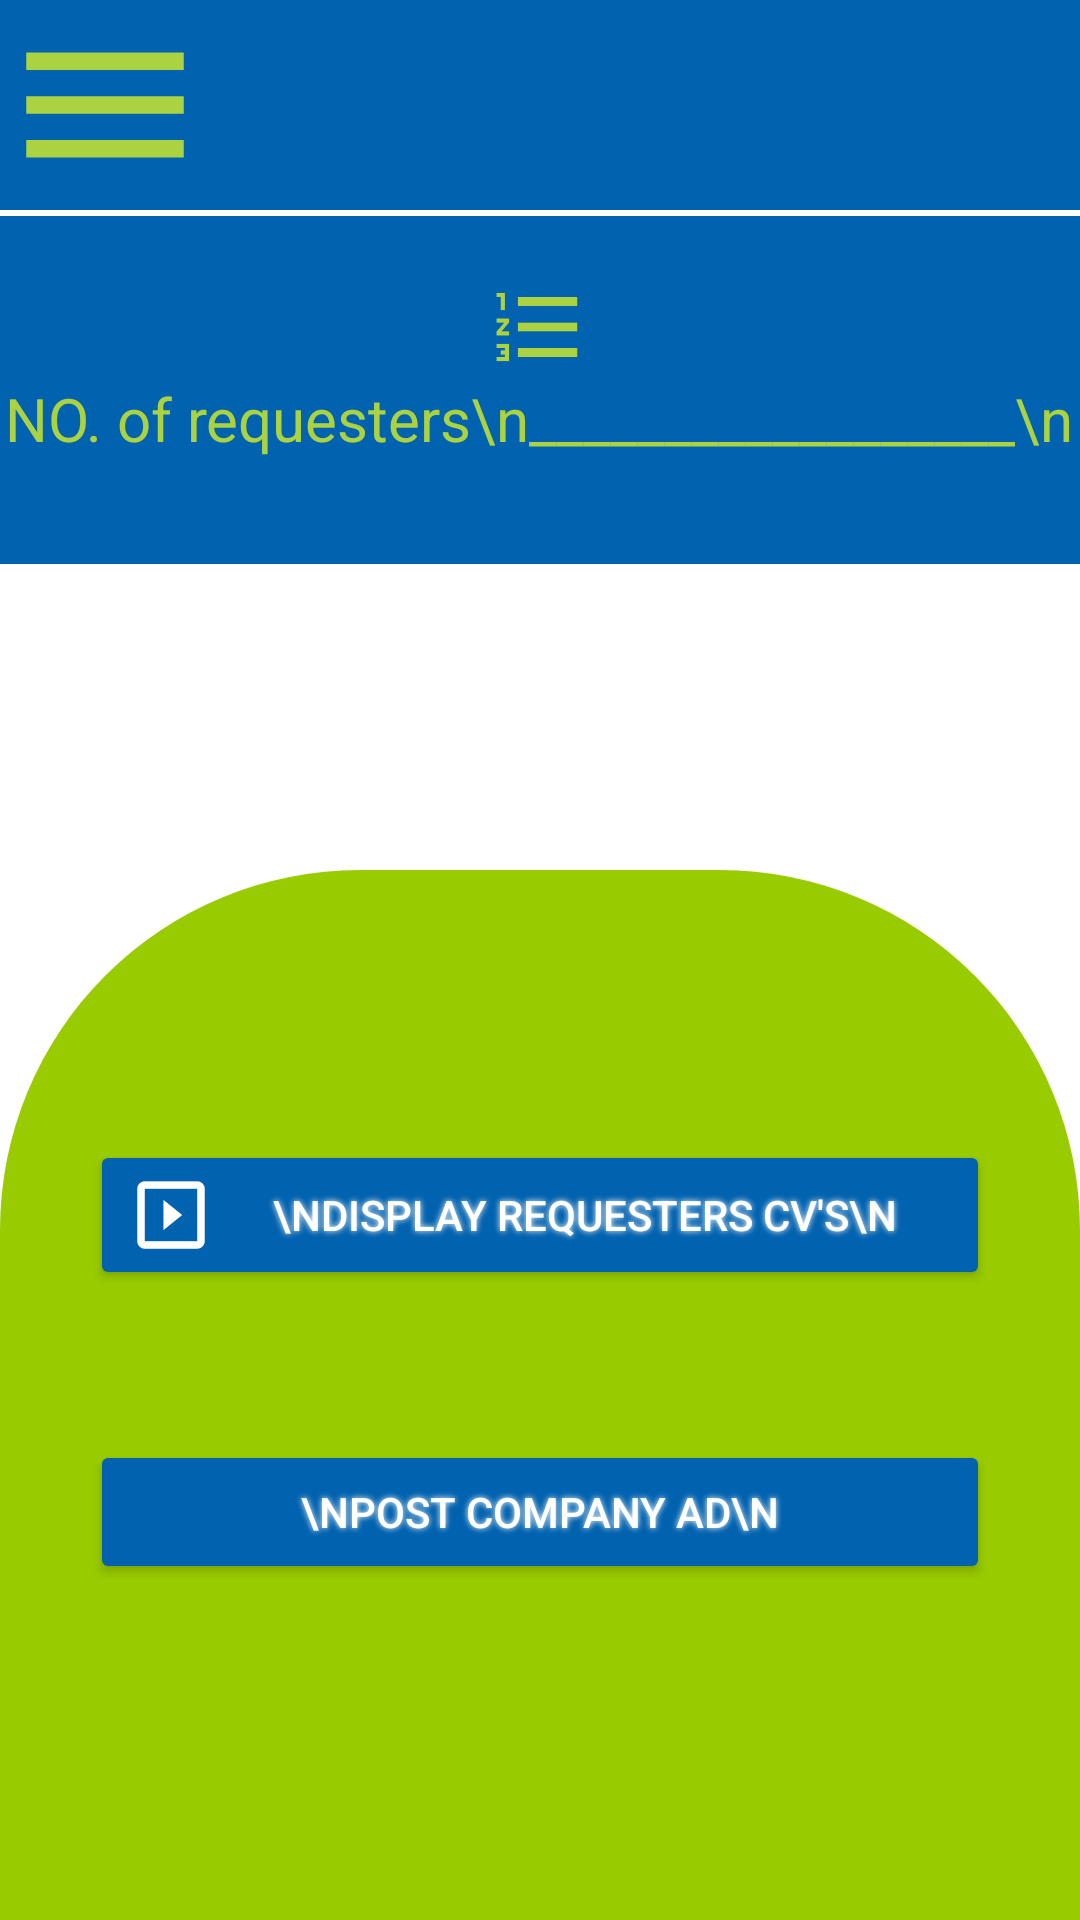

Named icons in this screenshot (1080px x 1920px) and their bounding boxes, (x1, y1, x2, y2):
admin menu: (26, 52, 184, 158)
